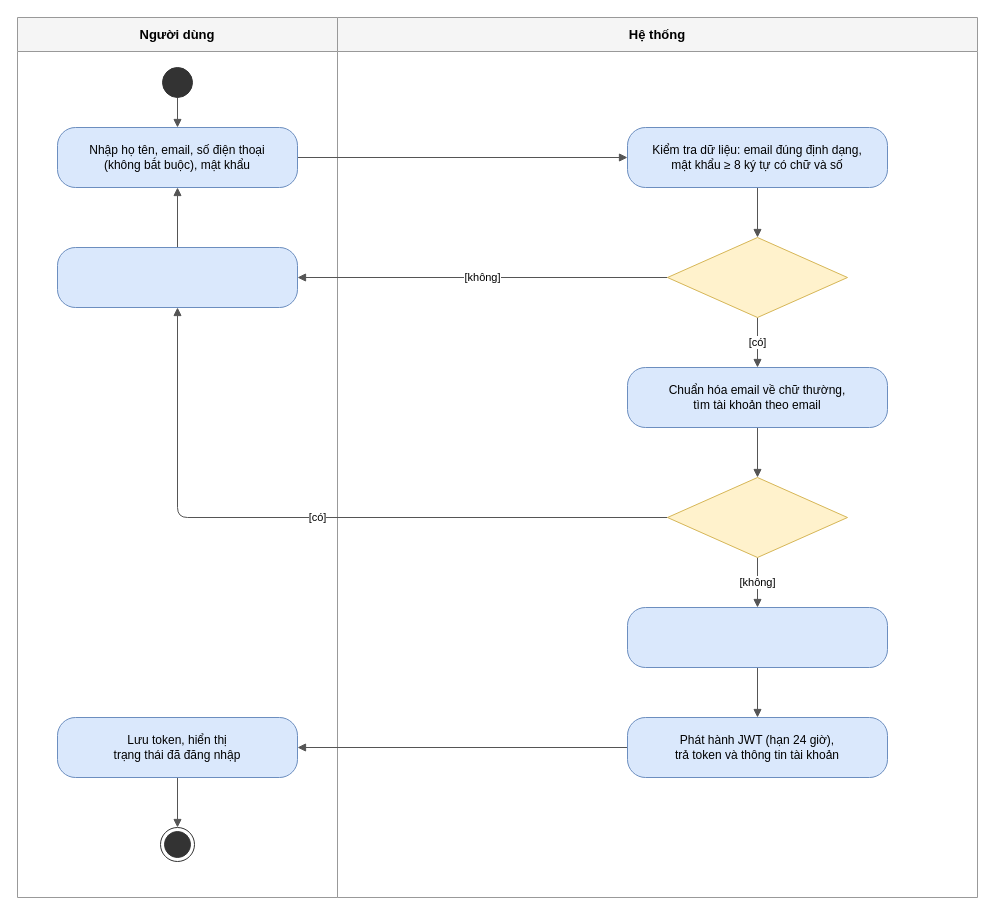
Some shapes in this 995 by 915 pixel diagram are drawn without their labels. The centre of each missing label's shape, as x and y in pixels:
"Băm mật khẩu (BCrypt), lưu tài khoản vai trò khách hàng" belongs at [757,637].
"Email đã được dùng?" belongs at [757,517].
"Hợp lệ?" belongs at [757,277].
"Sửa thông tin theo thông báo lỗi" belongs at [177,277].
